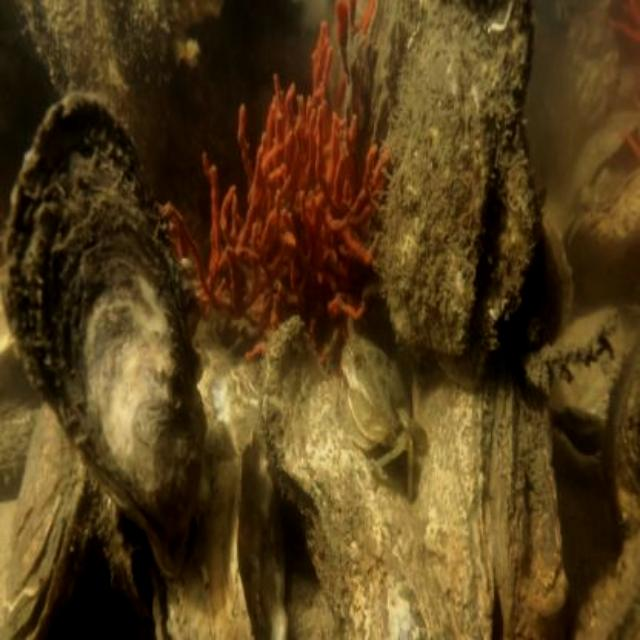Oyster-Closed: (0, 90, 205, 588), (261, 322, 386, 600), (0, 406, 86, 638), (547, 300, 638, 484)
Oyster-Open: (382, 0, 538, 373)
